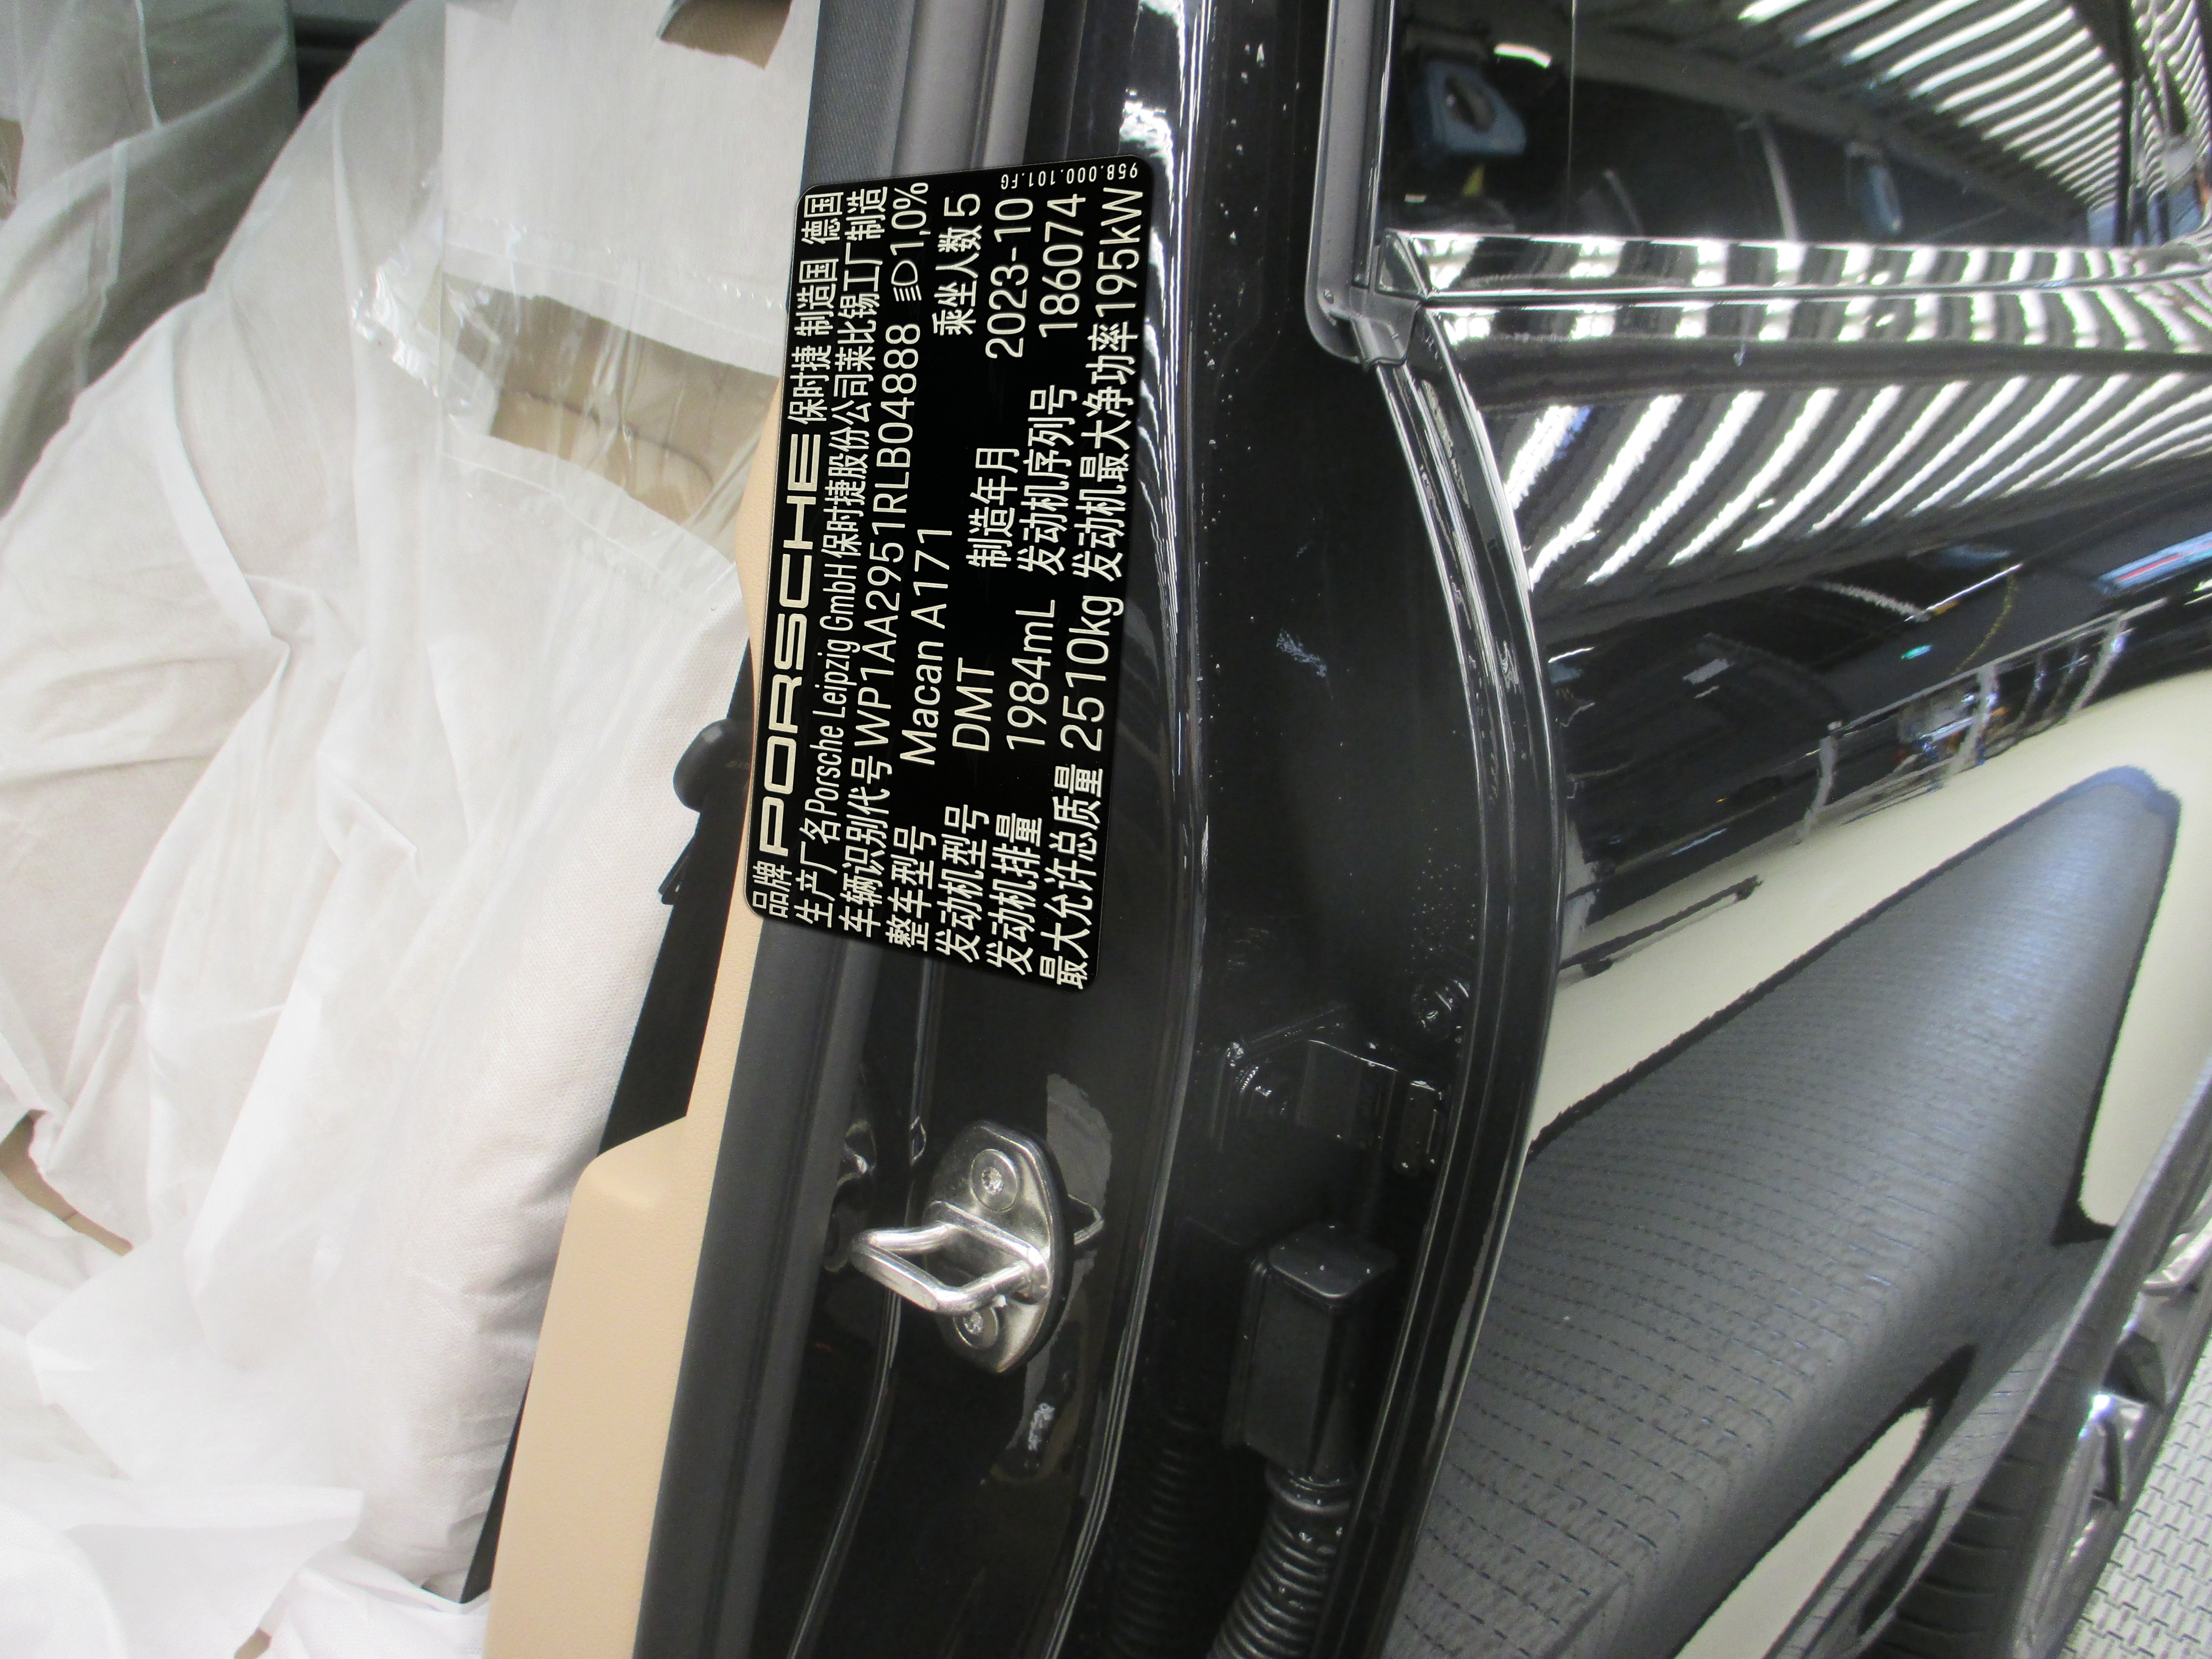Typlabel-China: (744, 155, 1155, 992)
